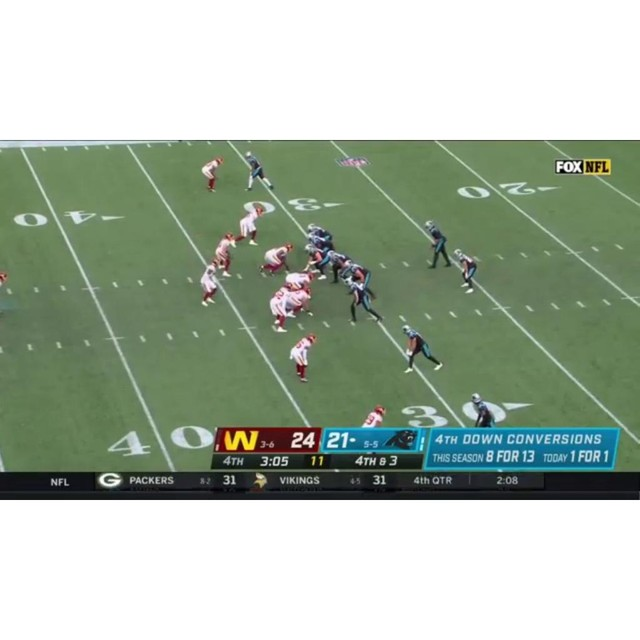american-football-player: (402, 325, 443, 374), (345, 276, 382, 324), (424, 220, 453, 269), (290, 334, 316, 383), (244, 151, 274, 191), (453, 248, 479, 294), (258, 243, 293, 277), (238, 203, 265, 246), (268, 285, 292, 332), (214, 231, 237, 278), (200, 258, 222, 307), (303, 242, 330, 280), (470, 393, 499, 428), (343, 259, 373, 290), (201, 157, 224, 193), (286, 287, 313, 317), (326, 250, 349, 284), (285, 271, 316, 294), (361, 405, 387, 428)
